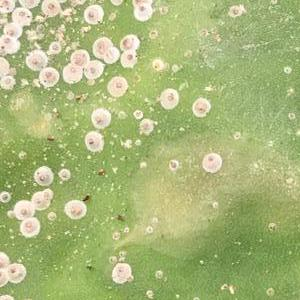Femea: (18, 219, 41, 236), (34, 168, 54, 184), (192, 97, 210, 114), (65, 200, 81, 219), (111, 265, 129, 281), (202, 152, 219, 168), (6, 264, 24, 279), (27, 54, 46, 68), (63, 63, 78, 80), (164, 88, 177, 107), (84, 60, 101, 74), (108, 76, 126, 89), (83, 6, 101, 19), (15, 202, 30, 217), (41, 69, 55, 85), (84, 135, 98, 151), (103, 34, 117, 50), (120, 36, 135, 50), (90, 110, 103, 126), (70, 51, 85, 64), (1, 36, 17, 48), (123, 52, 136, 66), (14, 9, 29, 21), (43, 1, 58, 13), (5, 23, 18, 36), (135, 3, 148, 16), (0, 0, 13, 13), (1, 75, 15, 87), (33, 193, 44, 208), (0, 251, 9, 269), (112, 46, 122, 60), (168, 160, 179, 170), (58, 169, 69, 179), (0, 267, 6, 284), (0, 192, 10, 201), (50, 43, 59, 52), (41, 189, 50, 198), (151, 61, 160, 68)
Linfa: (55, 15, 75, 36), (75, 24, 93, 37), (65, 37, 82, 48)
Macho: (30, 43, 35, 56), (227, 285, 231, 295), (105, 52, 108, 61)
